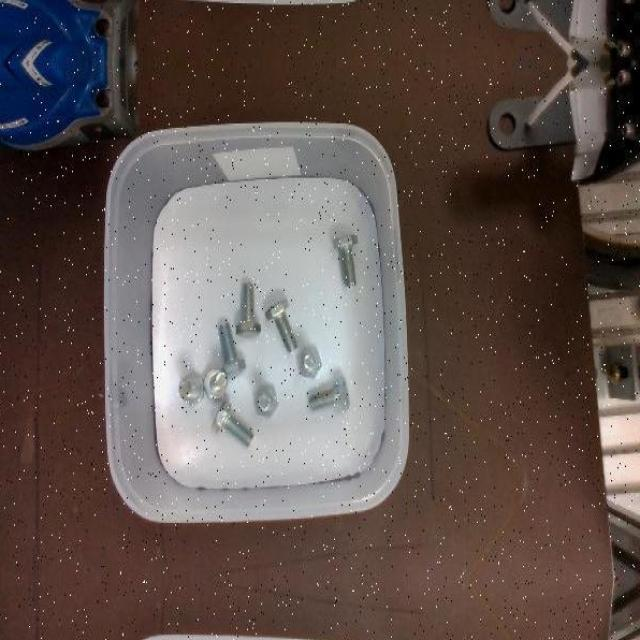screw: (210, 398, 254, 448), (266, 296, 296, 351), (218, 322, 246, 378), (310, 376, 351, 412), (236, 282, 262, 338), (333, 233, 357, 286), (253, 382, 280, 418), (295, 344, 322, 378), (178, 370, 204, 405), (204, 370, 229, 400)
